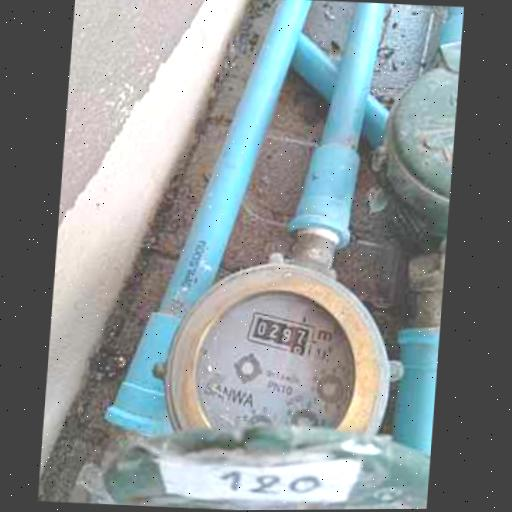0: (251, 316, 270, 341)
2: (264, 319, 283, 343)
7: (289, 327, 309, 357)
9: (277, 323, 296, 347)
border_water_meter_number: (244, 308, 320, 358)
